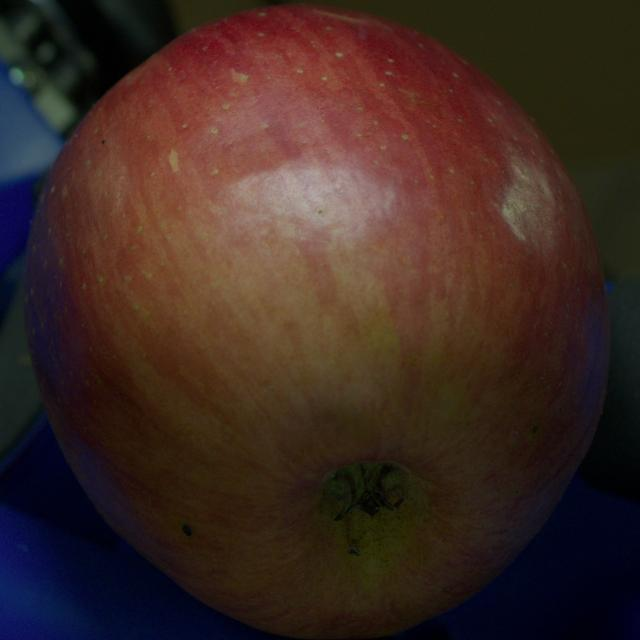apple: (24, 6, 609, 638)
pest: (182, 524, 192, 535), (101, 139, 105, 144)
